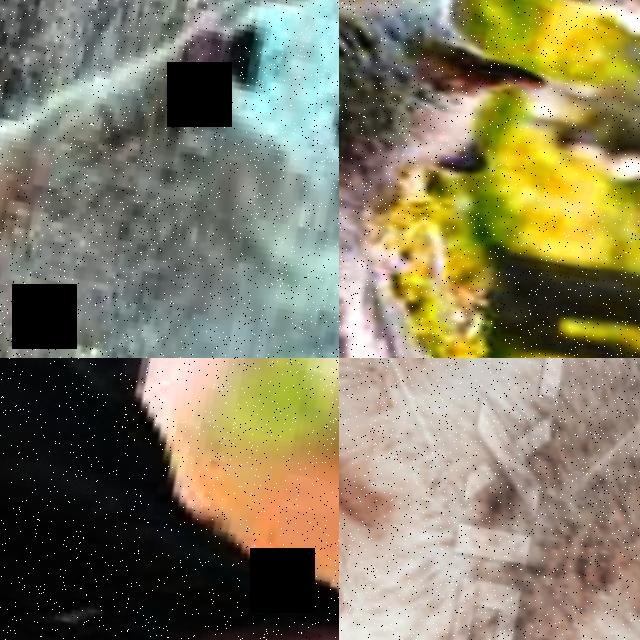dog: (0, 358, 339, 640)
wolf: (0, 0, 339, 358), (339, 0, 599, 358), (339, 358, 640, 640)
